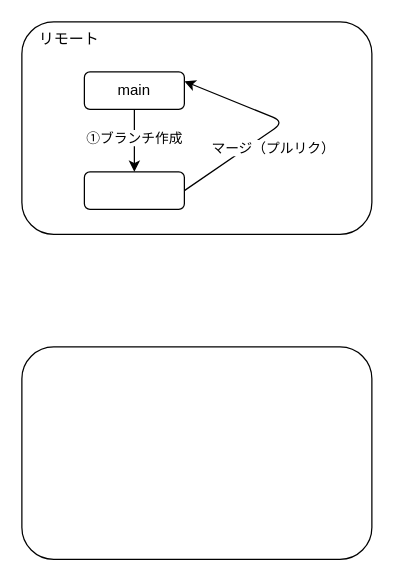
This 394x581 diagram has some shape labels left out. The centre of each missing label's shape, as x and y in pixels:
1-xxxxx: [133,190]
ローカル: [196,452]
